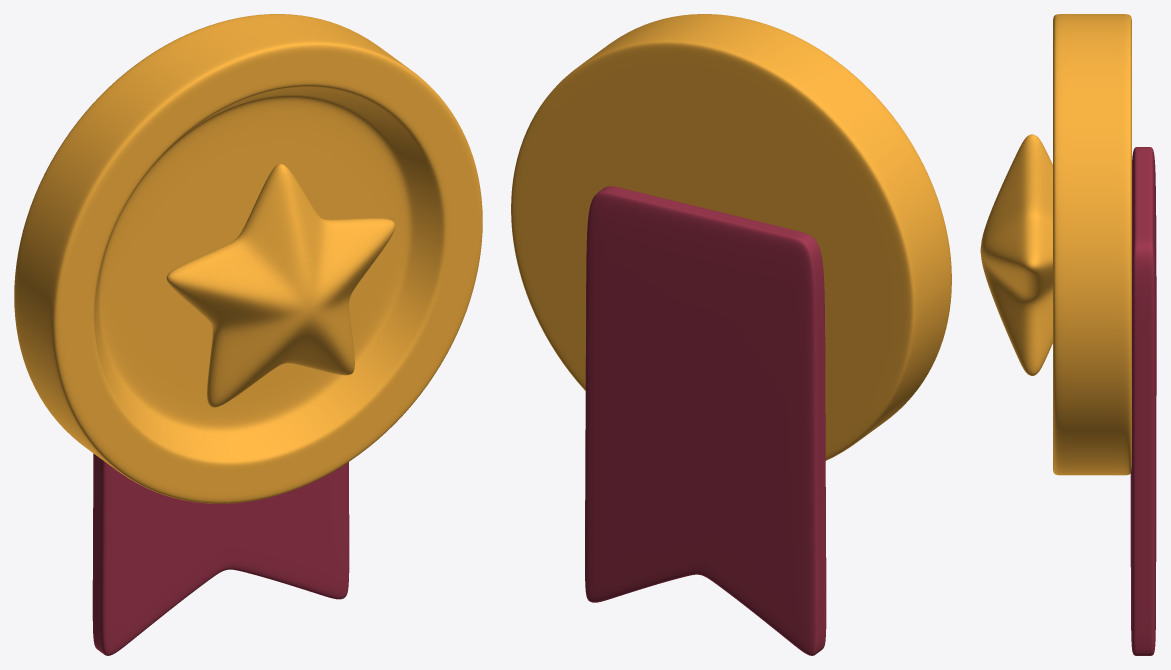
The model's file is Medalla.glb.
The picture shows the model from 3 angles, left to right: view 1: azimuth 30°, elevation 25°; view 2: azimuth 150°, elevation 25°; view 3: azimuth 270°, elevation 25°; orthographic projection. The views are drawn at different scales.
Parts seen in each view (by area): view 1: Cube.037; view 2: Cube.037; view 3: Cube.037.
Boxes of the visible parts, x1,y1,x2,y2 form: Cube.037: (14, 14, 482, 655); Cube.037: (511, 14, 951, 655); Cube.037: (980, 14, 1156, 655).
Size of the model in its own units: 1.42 by 1.93 by 0.5421.
